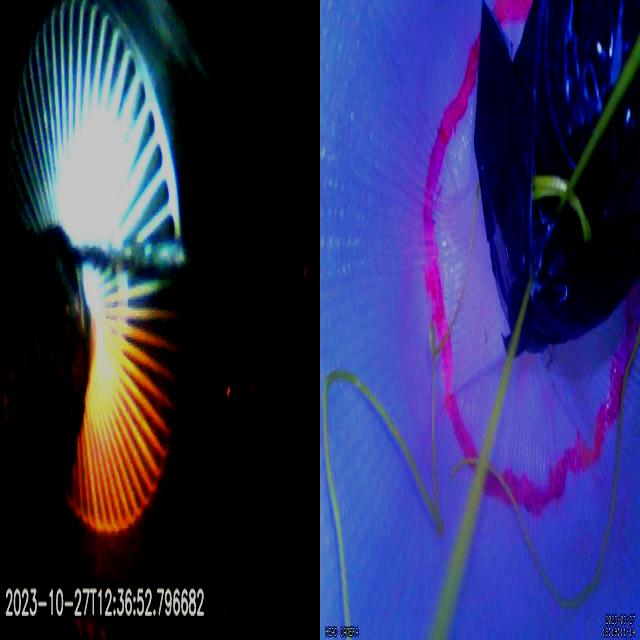red-circle: (423, 0, 640, 514)
